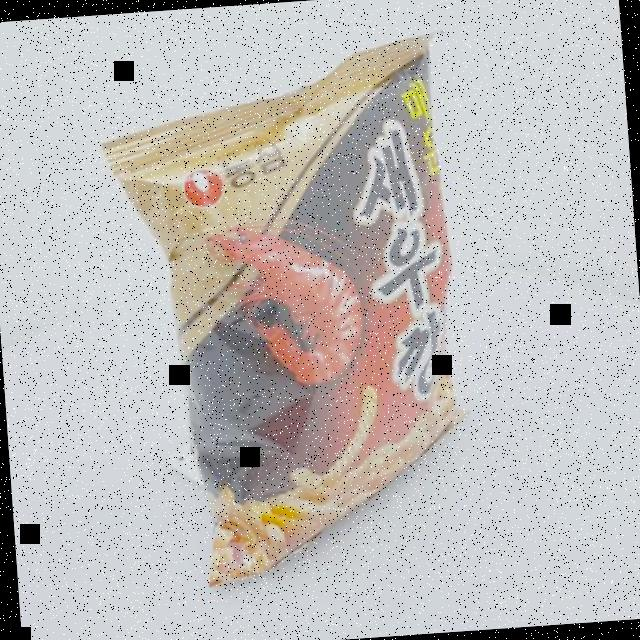snack_bag: (90, 13, 512, 604)
